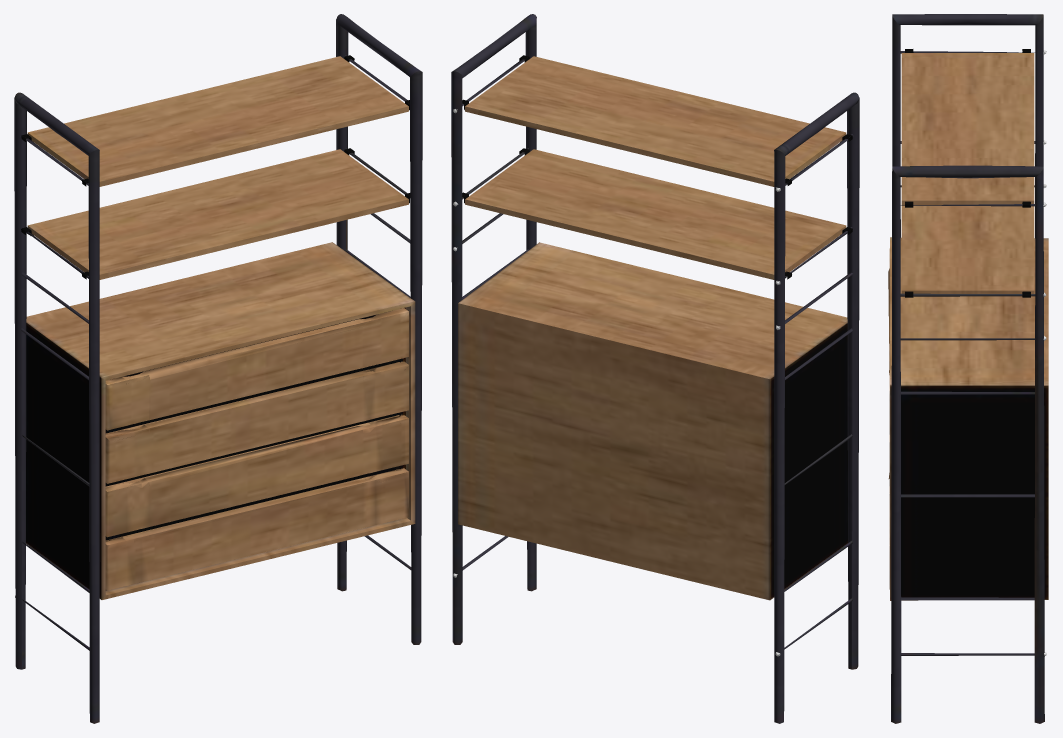
Rendered from ph_drawer_cabinet.glb.
3 views of the same model, side by side, from view 1: azimuth 30°, elevation 25°; view 2: azimuth 150°, elevation 25°; view 3: azimuth 270°, elevation 25° (orthographic). The views are drawn at different scales.
Visible parts, largest first — view 1: drawer_cabinet; view 2: drawer_cabinet; view 3: drawer_cabinet.
Boxes of the visible parts, x1,y1,x2,y2 form: drawer_cabinet: (14,14,422,723); drawer_cabinet: (451,14,859,723); drawer_cabinet: (888,14,1048,723).
Bounding box in the file's own units: 1.14 × 1.88 × 0.4919.
1 material, 1 textured.
